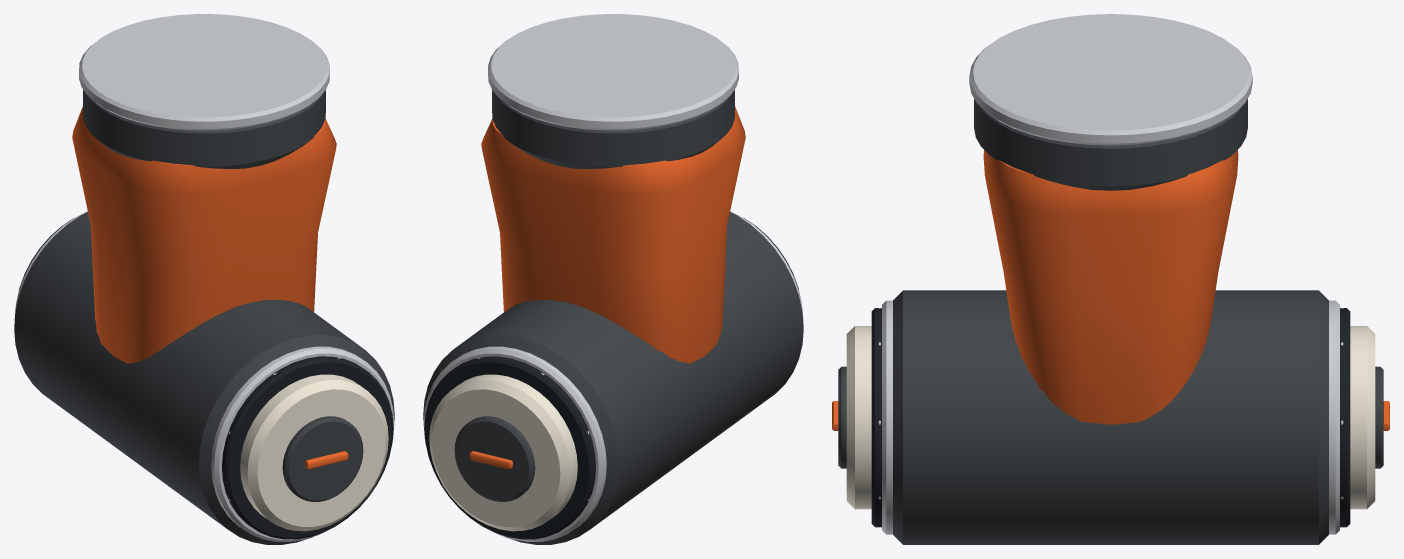
3 renders of one model, left to right at view 1: azimuth 30°, elevation 25°; view 2: azimuth 150°, elevation 25°; view 3: azimuth 270°, elevation 25°, orthographic. The views are drawn at different scales.
Parts seen in each view (by area): view 1: J5; view 2: J5; view 3: J5.
Boxes of the visible parts, x1=… form: J5: x1=14, y1=14, x2=394, y2=544; J5: x1=423, y1=14, x2=803, y2=544; J5: x1=832, y1=14, x2=1389, y2=544.
Size of the model in its own units: 0.06 by 0.1078 by 0.1182.
